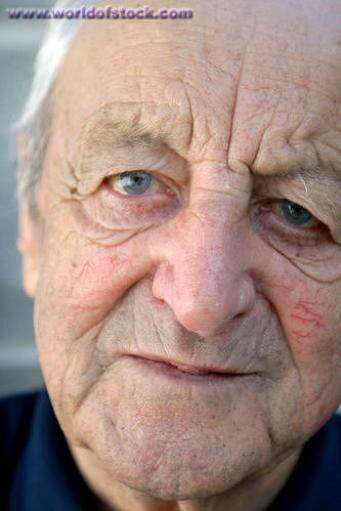left_eye: (254, 200, 331, 236)
left_lip_corner: (238, 363, 274, 390)
right_eye: (96, 170, 181, 208)
right_lip_corner: (108, 343, 151, 367)
